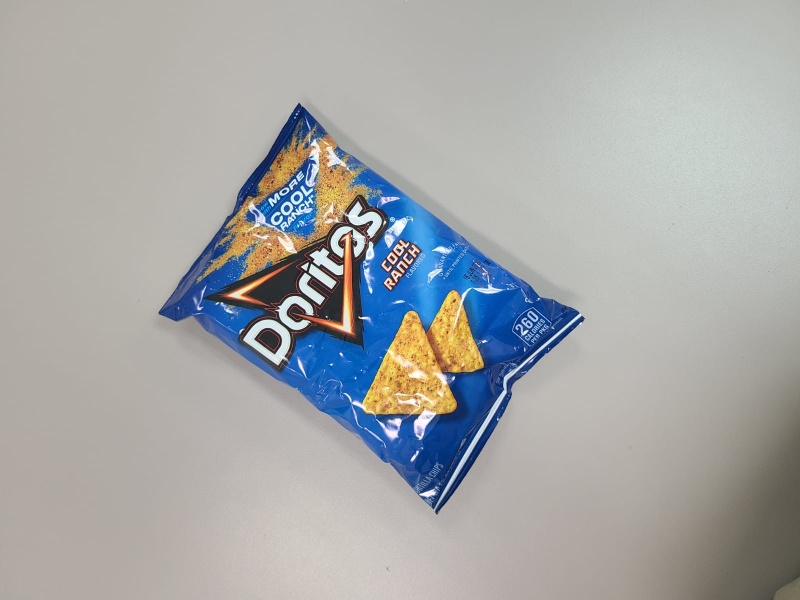doritos: (158, 100, 590, 516)
